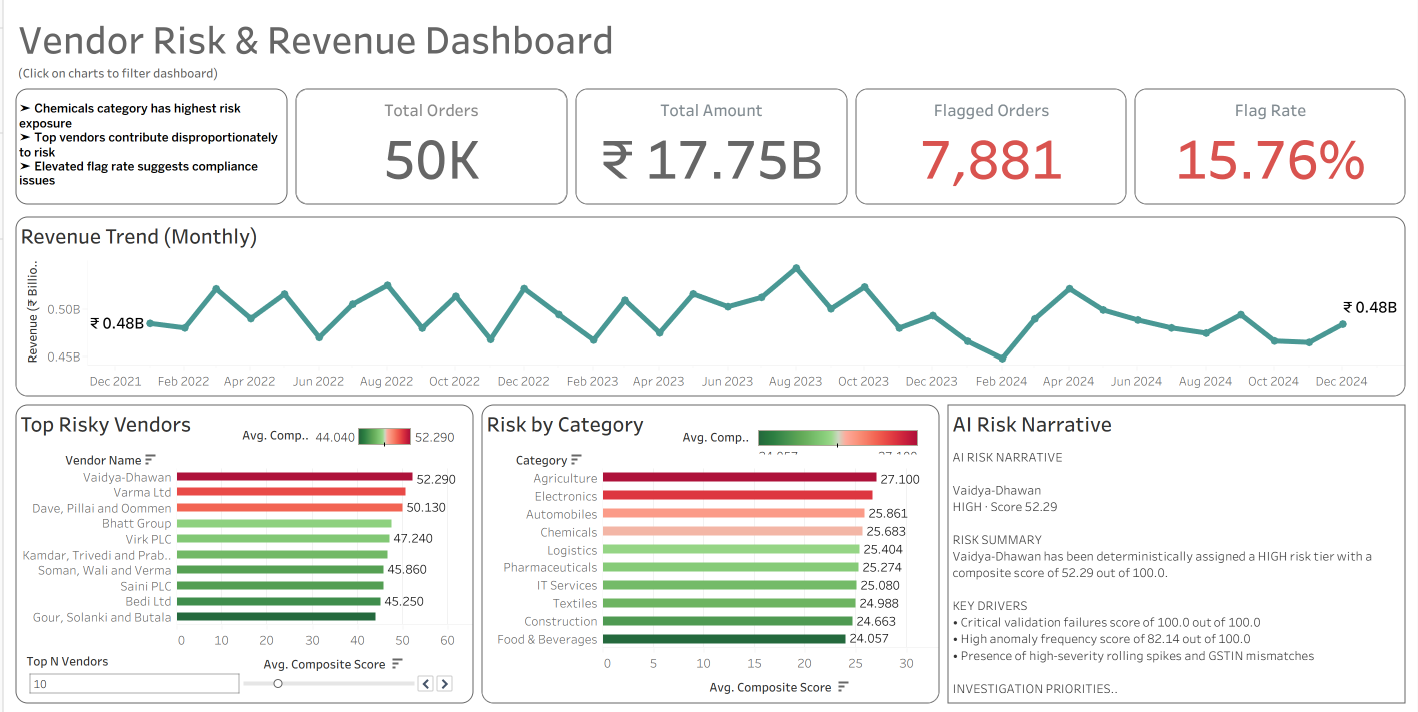

The dashboard page shown, as its layout file describes it:
{"tool":"tableau","page":{"name":"Dashboard 1","canvas":[1000,1000],"units":"permille","ordinal":0},"visuals":[{"type":"text","box":[5.7,16.8,988.7,103.4]},{"type":"text","box":[5.7,120.1,198,177.4]},{"type":"worksheet","title":"KPI Cards","mark":"Automatic","box":[203.7,120.1,198,177.4]},{"type":"worksheet","title":"KPI CARD2","mark":"Automatic","box":[401.7,120.1,198,177.4]},{"type":"worksheet","title":"KPI CARD3","mark":"Automatic","box":[599.7,120.1,197.3,177.4]},{"type":"worksheet","title":"kpi4","mark":"Automatic","box":[797,120.1,197.3,177.4]},{"type":"worksheet","title":"Revenue Trend (Monthly)","mark":"Line","rows":["amount"],"cols":["invoice_date"],"box":[5.7,303.1,988.7,275.1]},{"type":"worksheet","title":"Top Risky Vendors","mark":"Automatic","rows":["vendor_name"],"cols":["composite_score"],"box":[5.7,578.2,260,410.6]},{"type":"worksheet","title":"Risk by Category","mark":"Automatic","rows":["category"],"cols":["composite_score"],"box":[265.7,578.2,240,410.6]},{"type":"worksheet","title":"AI Risk Narrative","mark":"Automatic","box":[505.7,578.2,488.7,410.6]},{"type":"legend","title":"Top Risky Vendors","param":"[federated.091yskk1uc7mxc170rsdq0xuq5rq].[avg:composite_score:qk]","box":[160,579.6,170,72.6]},{"type":"legend","title":"Risk by Category","param":"[federated.091yskk1uc7mxc170rsdq0xuq5rq].[avg:composite_score:qk]","box":[480,596.4,170,39.1]},{"type":"parameter","param":"[Parameters].[Parameter 2]","box":[10.6,900.8,315,82.4]}]}

Visuals, with their boxes on the dashboard's canvas, which has no fixed pixel size, in thousandths of its width and height (x1, y1, x2, y2). These are canvas units, not pixel positions in the 1418x712 screenshot, which may show the page scaled, cropped or inside an application window:
text: (left=6, top=17, right=994, bottom=120)
text: (left=6, top=120, right=204, bottom=298)
"KPI Cards" worksheet: (left=204, top=120, right=402, bottom=298)
"KPI CARD2" worksheet: (left=402, top=120, right=600, bottom=298)
"KPI CARD3" worksheet: (left=600, top=120, right=797, bottom=298)
"kpi4" worksheet: (left=797, top=120, right=994, bottom=298)
"Revenue Trend (Monthly)" worksheet (Line marks): (left=6, top=303, right=994, bottom=578)
"Top Risky Vendors" worksheet: (left=6, top=578, right=266, bottom=989)
"Risk by Category" worksheet: (left=266, top=578, right=506, bottom=989)
"AI Risk Narrative" worksheet: (left=506, top=578, right=994, bottom=989)
"Top Risky Vendors" legend: (left=160, top=580, right=330, bottom=652)
"Risk by Category" legend: (left=480, top=596, right=650, bottom=636)
parameter: (left=11, top=901, right=326, bottom=983)
